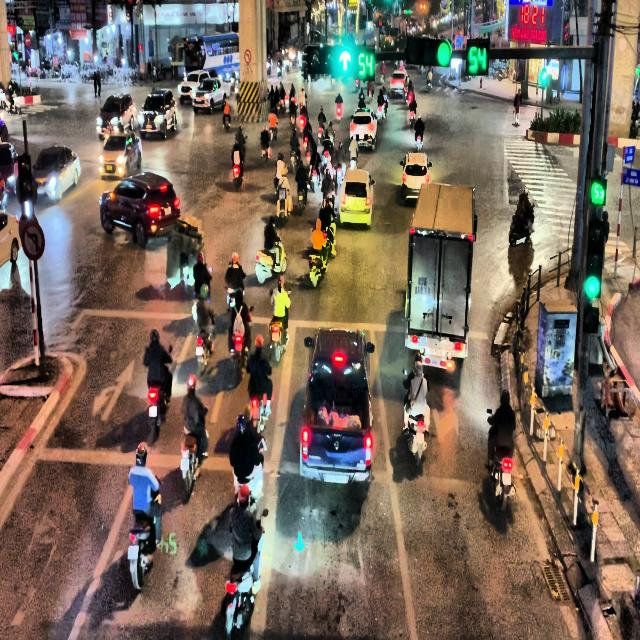lisence_plate: (317, 469, 357, 485), (413, 275, 432, 304), (425, 346, 447, 360), (162, 206, 173, 215), (352, 200, 358, 212), (413, 177, 419, 186), (359, 134, 364, 141)
